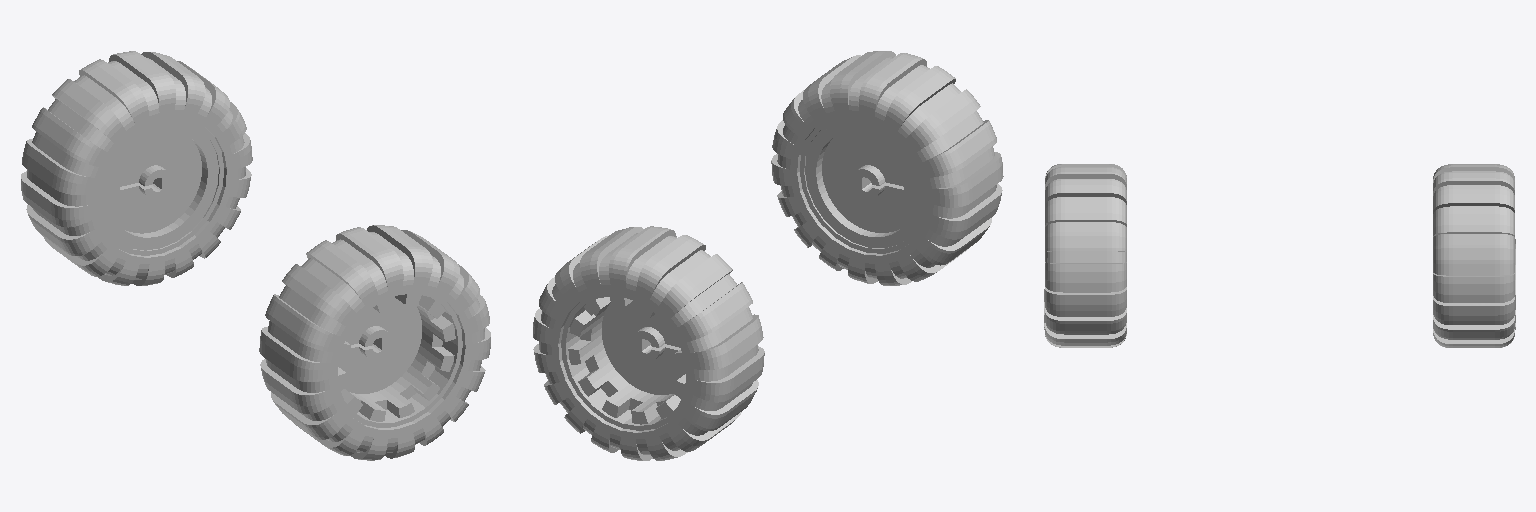
robot.urdf — alphabot2:
<?xml version="1.0" ?>
<robot name="alphabot2">
  <link name="base_footprint"/>
  <joint name="base_joint" type="fixed">
    <parent link="base_footprint"/>
    <child link="base_link"/>
    <origin xyz="0 0 0" rpy="0 0 -1.5708"/>
  </joint>
  <link name="base_link">
    <visual>
      <origin xyz="0 0 0.0" rpy="0 0 0"/>
      <geometry>
        <mesh filename="package://ab2_description/meshes/dae/body.dae" scale="1.0 1.0 1.0"/>
      </geometry>
    </visual>
    <collision>
      <origin xyz="0.001 0 0.014" rpy="0 0 0"/>
      <geometry>
        <box size="0.14 0.14 0.05"/>
      </geometry>
    </collision>
    <inertial>
      <origin xyz="0.0 0.0 0.013"/>
      <mass value="0.50000000"/>
      <inertia ixx="0.00058889" ixy="0.00000000" ixz="-0.00000012" iyy="0.00054762" iyz="0.00000027" izz="0.00089218"/>
    </inertial>
  </link>
  <joint name="wheel_left_joint" type="continuous">
    <parent link="base_link"/>
    <child link="wheel_left_link"/>
    <origin xyz="-0.044 0 0" rpy="0 0 0"/>
    <axis xyz="1 0 0"/>
  </joint>
  <link name="wheel_left_link">
    <visual>
      <origin xyz="0 0 0" rpy="0 0 0"/>
      <geometry>
        <mesh filename="package://ab2_description/meshes/dae/wheel.dae" scale="1.0 1.0 1.0"/>
      </geometry>
    </visual>
    <collision>
      <origin xyz="0 0 0" rpy="0 1.5708 0"/>
      <geometry>
        <cylinder length="0.019" radius="0.021"/>
      </geometry>
    </collision>
    <inertial>
      <origin xyz="-0.00019604 -0.00018058 -0.00007497"/>
      <mass value="0.03000000"/>
      <inertia ixx="0.00000644" ixy="-0.00000000" ixz="-0.00000000" iyy="0.00000407" iyz="-0.00000000" izz="0.00000407"/>
    </inertial>
  </link>
  <joint name="wheel_right_joint" type="continuous">
    <parent link="base_link"/>
    <child link="wheel_right_link"/>
    <origin xyz="0.044 0 0" rpy="0 0 0"/>
    <axis xyz="1 0 0"/>
  </joint>
  <link name="wheel_right_link">
    <visual>
      <origin xyz="0 0 0" rpy="0 3.14 0"/>
      <geometry>
        <mesh filename="package://ab2_description/meshes/dae/wheel.dae" scale="1.0 1.0 1.0"/>
      </geometry>
    </visual>
    <collision>
      <origin xyz="0 0 0" rpy="0 1.5708 0"/>
      <geometry>
        <cylinder length="0.019" radius="0.021"/>
      </geometry>
    </collision>
    <inertial>
      <origin xyz="-0.00019604 -0.00018058 -0.00007497"/>
      <mass value="0.03000000"/>
      <inertia ixx="0.00000644" ixy="-0.00000000" ixz="-0.00000000" iyy="0.00000407" iyz="-0.00000000" izz="0.00000407"/>
    </inertial>        
  </link>
  <joint name="caster_back_joint" type="fixed">
    <parent link="base_link"/>
    <child link="caster_back_link"/>
    <origin xyz="0 -0.05 -0.016" rpy="0 0 0"/>
  </joint>
  <link name="caster_back_link">
    <collision>
      <origin xyz="0 0 0" rpy="0 0 0"/>
      <geometry>
        <box size="0.01 0.01 0.01"/>
      </geometry>
    </collision>
  </link>
  <joint name="caster_front_joint" type="fixed">
    <parent link="base_link"/>
    <child link="caster_front_link"/>
    <origin xyz="0 0.05 -0.016" rpy="0 0 0"/>
  </joint>
  <link name="caster_front_link">
    <collision>
      <origin xyz="0 0 0" rpy="0 0 0"/>
      <geometry>
        <box size="0.01 0.01 0.01"/>
      </geometry>
    </collision>
  </link>
</robot>

--- Render facts (derived) ---
Views: 3 orthographic renders of the robot side by side, from view 1: azimuth 30°, elevation 25°; view 2: azimuth 150°, elevation 25°; view 3: azimuth 270°, elevation 25°.
Robot: alphabot2 — 6 links, 5 joints (2 continuous, 3 fixed); root link base_footprint; default pose: all joints at 0.
Visible links, largest first — view 1: wheel_left_link, wheel_right_link; view 2: wheel_left_link, wheel_right_link; view 3: wheel_left_link, wheel_right_link.
Link boxes in pixels (x1,y1,x2,y2): wheel_left_link: (21, 51, 252, 285); wheel_right_link: (259, 225, 490, 460); wheel_left_link: (533, 226, 764, 460); wheel_right_link: (771, 51, 1003, 285); wheel_left_link: (1433, 164, 1515, 347); wheel_right_link: (1044, 164, 1126, 347).
Bounding box of the posed robot: 0.0422 × 0.1075 × 0.0423 m (x, y, z).
Meshes: 2 distinct files referenced, 2 mesh visuals loaded (1 Collada DAE); not drawn: 1 (reference not matched to a file when rendering).